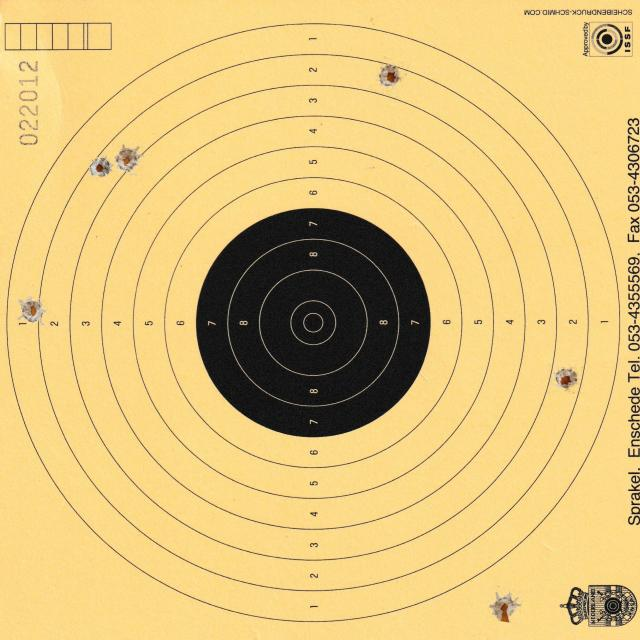1: (16, 294, 44, 326)
3: (552, 367, 580, 390), (88, 153, 111, 180), (377, 66, 403, 88)
4: (112, 148, 142, 172)
Black Contour: (195, 208, 432, 438)
Target: (6, 20, 624, 626)
hole: (494, 592, 521, 622)
